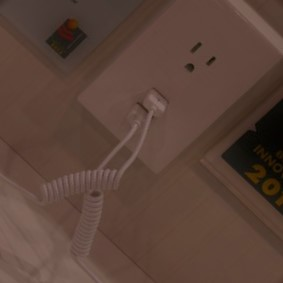outlet: (177, 37, 220, 76)
